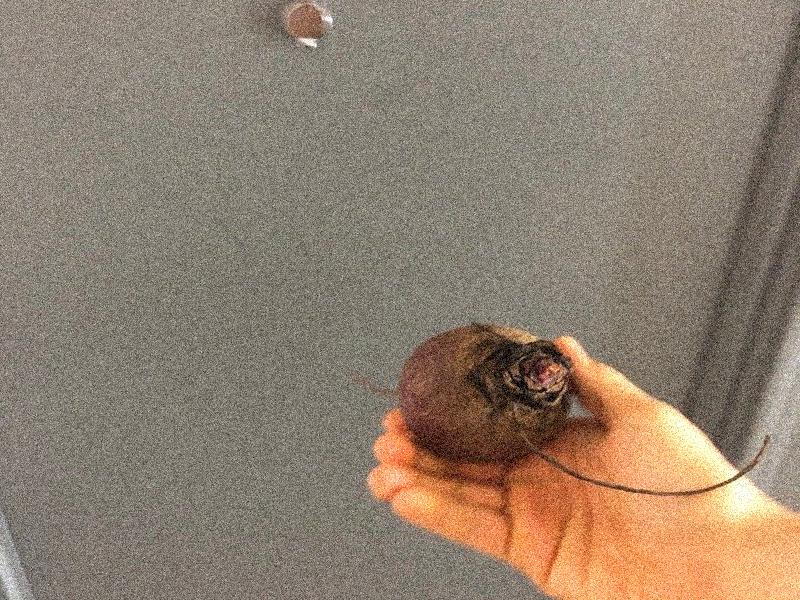Beet: (350, 324, 766, 498)
